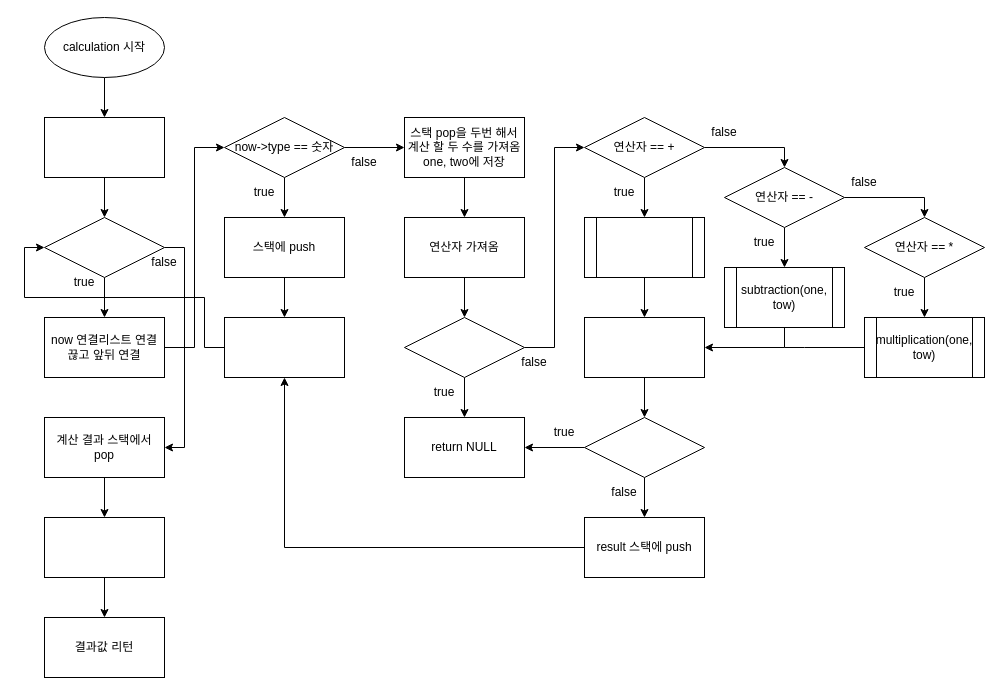
Some shapes in this 1002 by 695 pixel diagram are drawn without their labels. Here are the shapes that lost their labels. From the top down, the box of each, then its label:
(44, 116, 164, 178): 스택, Expression now 초기화
(44, 216, 164, 278): now != tail
(584, 216, 704, 278): adition(one, tow)
(224, 316, 344, 378): now = head->next
(404, 316, 524, 378): one == NULL or two == NULL
(584, 316, 704, 378): 계산 결과 result에 저장
(584, 416, 704, 478): result == NULL
(44, 516, 164, 578): 스택, 표현식 모두 메모리 해제
